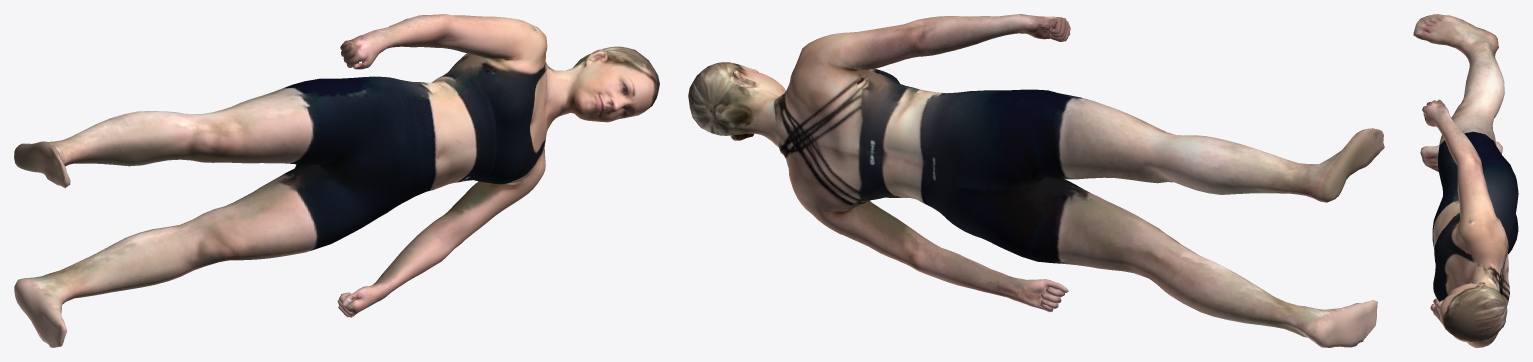
File: avatar.obj
3 views of the same model, side by side, from view 1: azimuth 30°, elevation 25°; view 2: azimuth 150°, elevation 25°; view 3: azimuth 270°, elevation 25° (orthographic). The views are drawn at different scales.
Bounding box in the file's own units: 1.71 × 0.7281 × 0.3184.
1 material, 1 textured.
